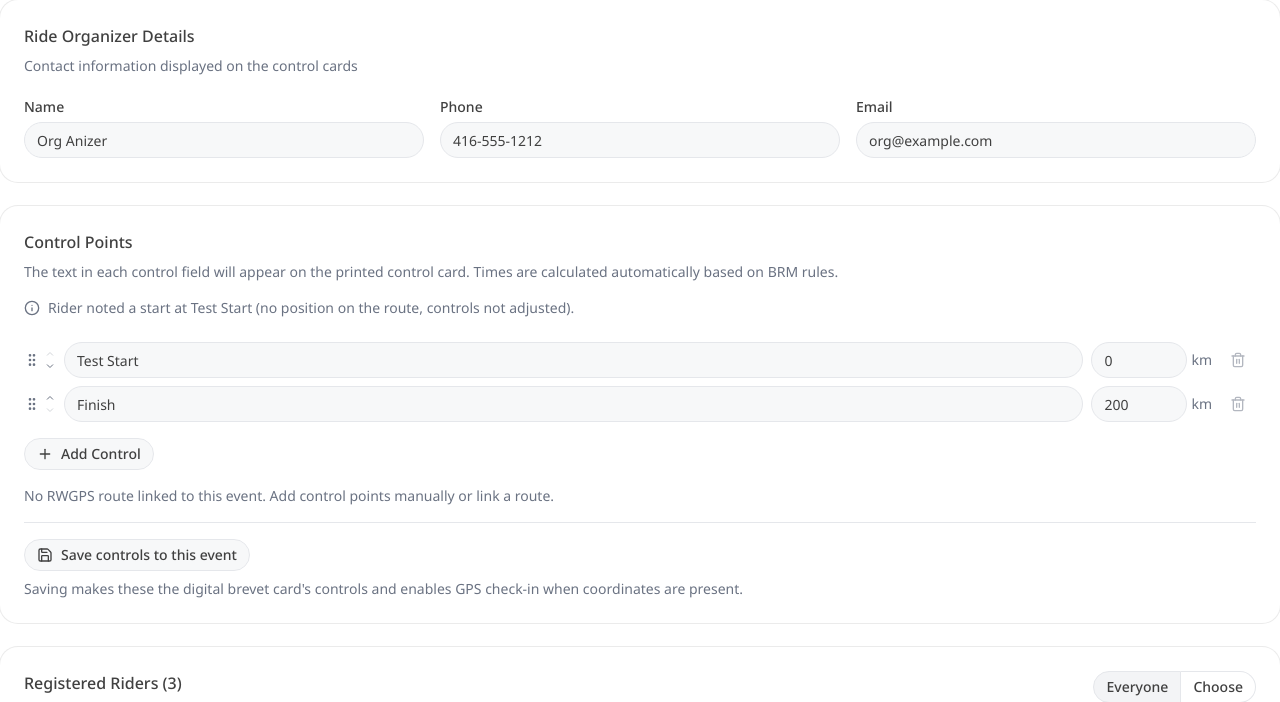
Scenario: ControlCardsForm digital-card sync › flips from the save button to the in-sync affordance after the first save
Click the button "Save controls to this event".
click(137, 555)  # box [24,539,250,571]
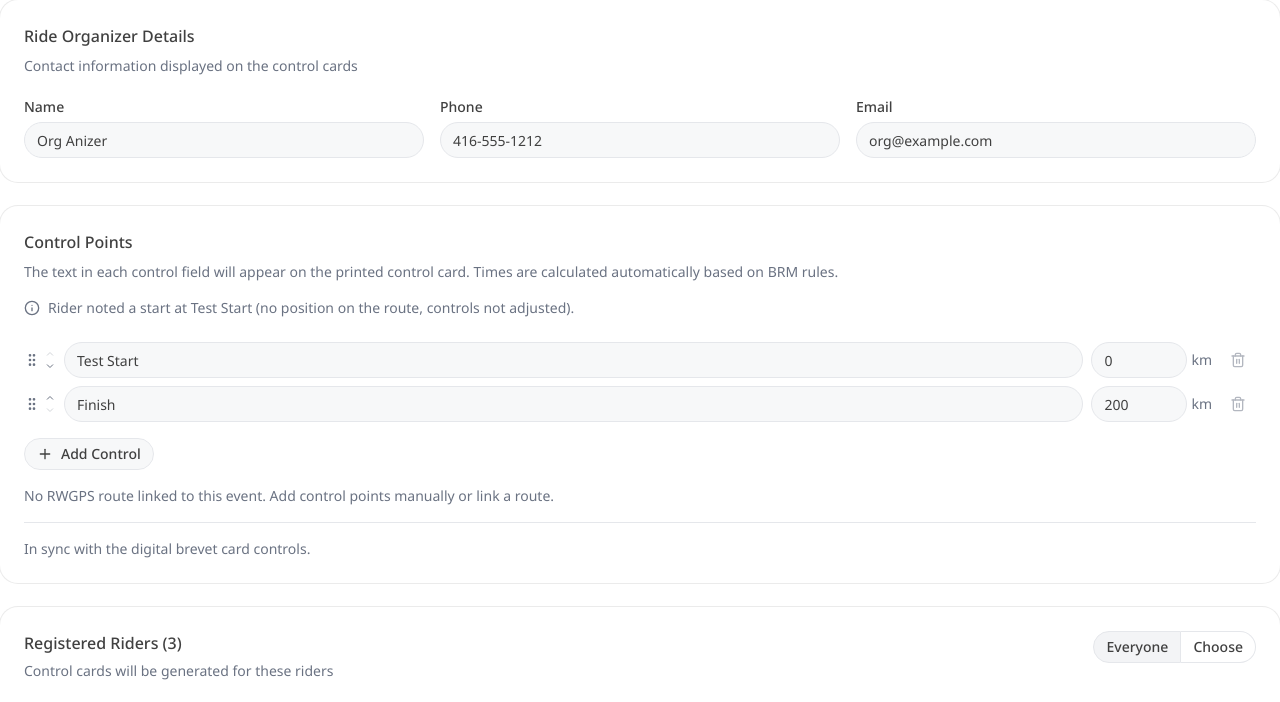
Now the text "In sync with the digital brevet card controls." is shown, box [24,539,310,558]
Now the button "Save controls to this event" is gone
